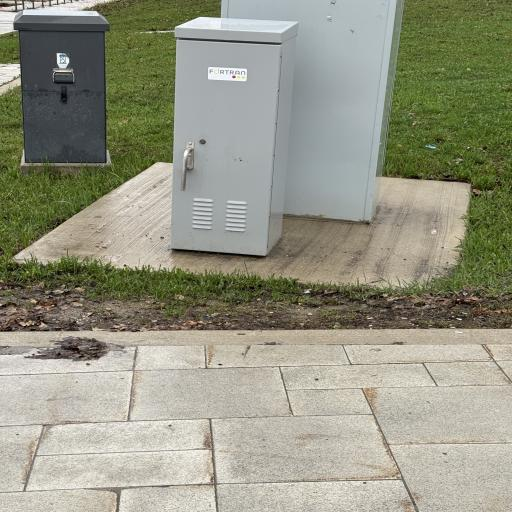Electrical Box: (173, 0, 404, 259), (15, 6, 116, 165)
